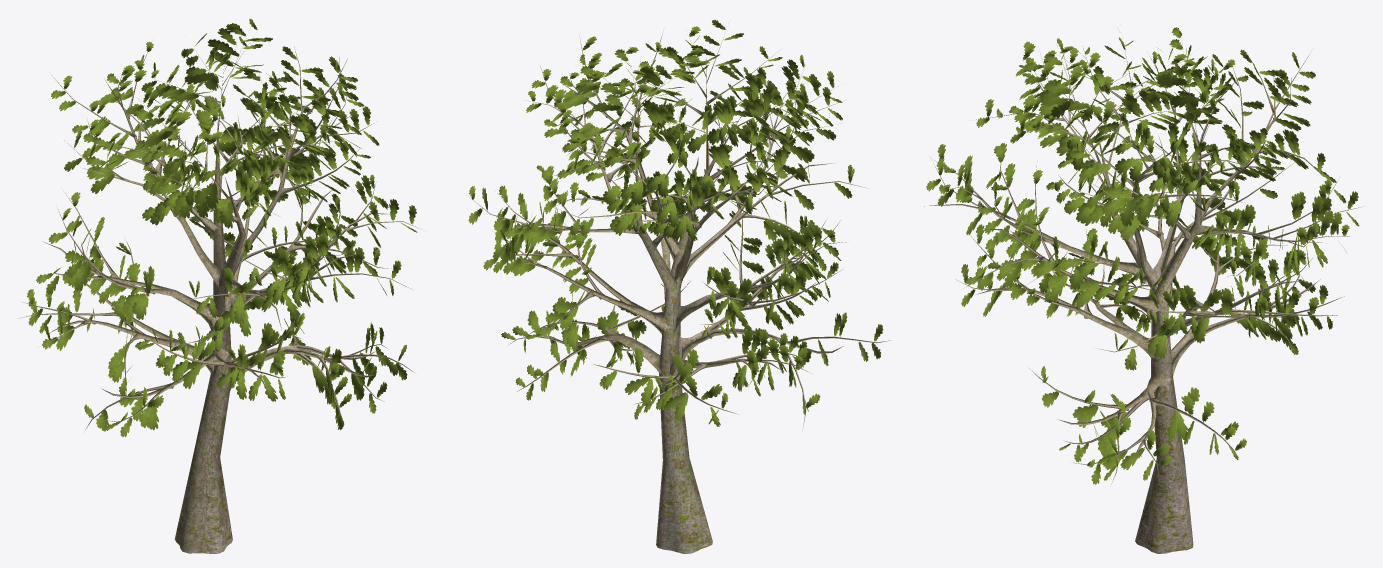
The model's file is oak1.fbx.
3 views of the same model, side by side, from view 1: azimuth 30°, elevation 25°; view 2: azimuth 150°, elevation 25°; view 3: azimuth 270°, elevation 25° (orthographic). The views are drawn at different scales.
Parts seen in each view (by area): view 1: Tree_1, Tree_0; view 2: Tree_1, Tree_0; view 3: Tree_1, Tree_0.
Boxes of the visible parts, x1,y1,x2,y2 form: Tree_1: (27,19,417,436); Tree_0: (18,36,424,553); Tree_1: (468,19,883,426); Tree_0: (464,30,890,553); Tree_1: (926,27,1359,484); Tree_0: (924,40,1361,553).
Bounding box in the file's own units: 516 × 723 × 560.
2 materials, 2 textured.
